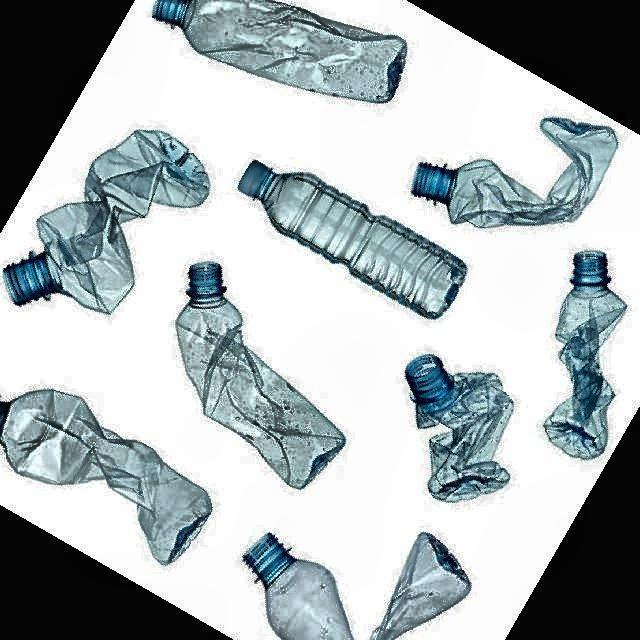plastic: (176, 262, 345, 488), (4, 130, 209, 313), (0, 390, 211, 564), (240, 161, 466, 318), (152, 0, 406, 102), (244, 532, 470, 640), (412, 118, 618, 228), (544, 251, 626, 458), (405, 355, 512, 502)
